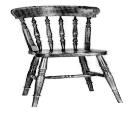chair_success: (8, 2, 126, 108)
